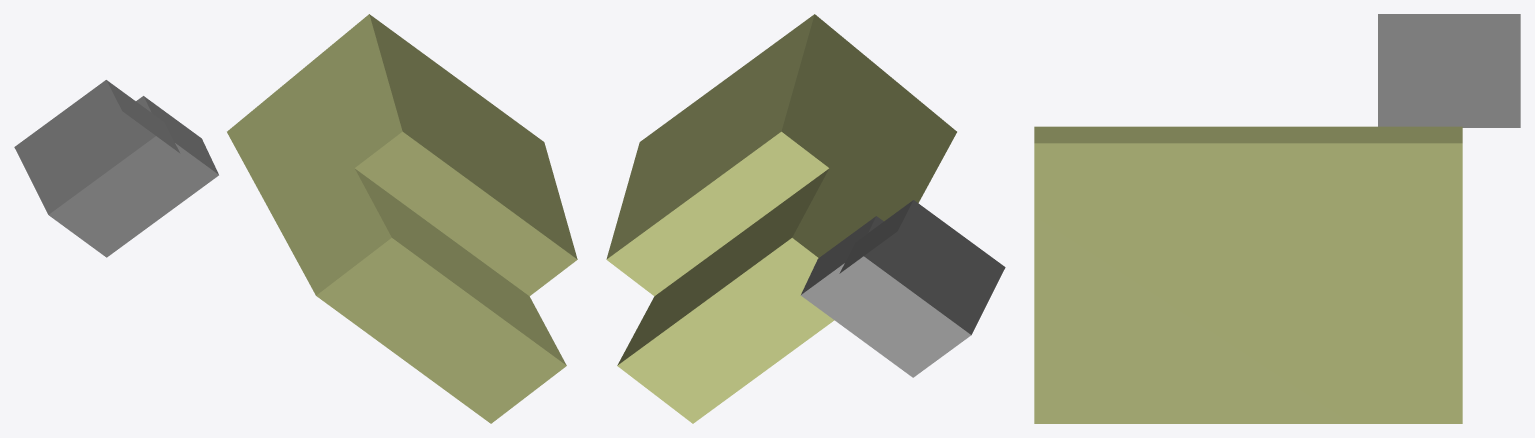
3 views of the same model, side by side, from view 1: azimuth 30°, elevation 25°; view 2: azimuth 150°, elevation 25°; view 3: azimuth 270°, elevation 25° (orthographic). The views are drawn at different scales.
Visible parts, largest first — view 1: 0_1_1_3_2_2_3_3_0_3_2; view 2: 0_1_1_3_2_2_3_3_0_3_2; view 3: 0_1_1_3_2_2_3_3_0_3_2.
Boxes of the visible parts, x1,y1,x2,y2 form: 0_1_1_3_2_2_3_3_0_3_2: [14, 14, 577, 423]; 0_1_1_3_2_2_3_3_0_3_2: [606, 14, 1005, 423]; 0_1_1_3_2_2_3_3_0_3_2: [1034, 14, 1520, 423].
Bounding box in the file's own units: 10.82 × 7.62 × 10.22.
